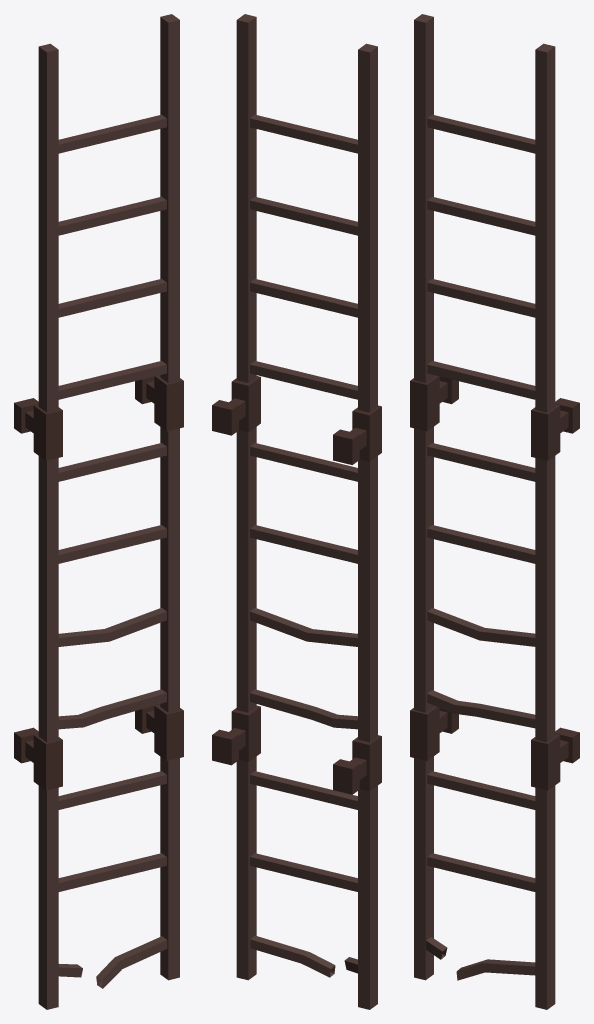
The model's file is ladder_mesh.glb.
The picture shows the model from 3 angles, left to right: view 1: azimuth 30°, elevation 25°; view 2: azimuth 150°, elevation 25°; view 3: azimuth 330°, elevation 25°; orthographic projection.
Parts seen in each view (by area): view 1: polySurface161_rust_metal_0.001, pCube203_lambert44_0.001, pCube199_lambert44_0.001, pCube195_lambert44_0.001, pCube206_lambert44_0.001, pCube197_lambert44_0.001, pCube204_lambert44_0.001; view 2: polySurface161_rust_metal_0.001, pCube195_lambert44_0.001, pCube206_lambert44_0.001, pCube199_lambert44_0.001, pCube203_lambert44_0.001, pCube198_lambert44_0.001, pCube204_lambert44_0.001, pCube197_lambert44_0.001, pCube201_lambert44_0.001; view 3: polySurface161_rust_metal_0.001, pCube195_lambert44_0.001, pCube199_lambert44_0.001, pCube203_lambert44_0.001, pCube206_lambert44_0.001, pCube198_lambert44_0.001, pCube201_lambert44_0.001.
Part boxes in pixels (left/top/right/bottom): polySurface161_rust_metal_0.001: left=38, top=14, right=179, bottom=1009; pCube203_lambert44_0.001: left=154, top=704, right=183, bottom=760; pCube199_lambert44_0.001: left=154, top=375, right=183, bottom=431; pCube195_lambert44_0.001: left=33, top=404, right=62, bottom=460; pCube206_lambert44_0.001: left=33, top=734, right=62, bottom=790; pCube197_lambert44_0.001: left=14, top=398, right=38, bottom=433; pCube204_lambert44_0.001: left=14, top=727, right=38, bottom=763; polySurface161_rust_metal_0.001: left=236, top=14, right=377, bottom=1009; pCube195_lambert44_0.001: left=352, top=405, right=381, bottom=461; pCube206_lambert44_0.001: left=352, top=735, right=381, bottom=791; pCube199_lambert44_0.001: left=231, top=376, right=260, bottom=432; pCube203_lambert44_0.001: left=231, top=705, right=260, bottom=761; pCube198_lambert44_0.001: left=212, top=400, right=238, bottom=435; pCube204_lambert44_0.001: left=333, top=759, right=359, bottom=794; pCube197_lambert44_0.001: left=333, top=429, right=359, bottom=464; pCube201_lambert44_0.001: left=212, top=729, right=238, bottom=765; polySurface161_rust_metal_0.001: left=414, top=14, right=555, bottom=1009; pCube195_lambert44_0.001: left=410, top=375, right=439, bottom=431; pCube199_lambert44_0.001: left=531, top=404, right=560, bottom=460; pCube203_lambert44_0.001: left=531, top=734, right=560, bottom=790; pCube206_lambert44_0.001: left=410, top=705, right=439, bottom=760; pCube198_lambert44_0.001: left=555, top=398, right=579, bottom=433; pCube201_lambert44_0.001: left=555, top=727, right=579, bottom=763.
Size of the model in its own units: 1.65 by 10.78 by 0.7223.
